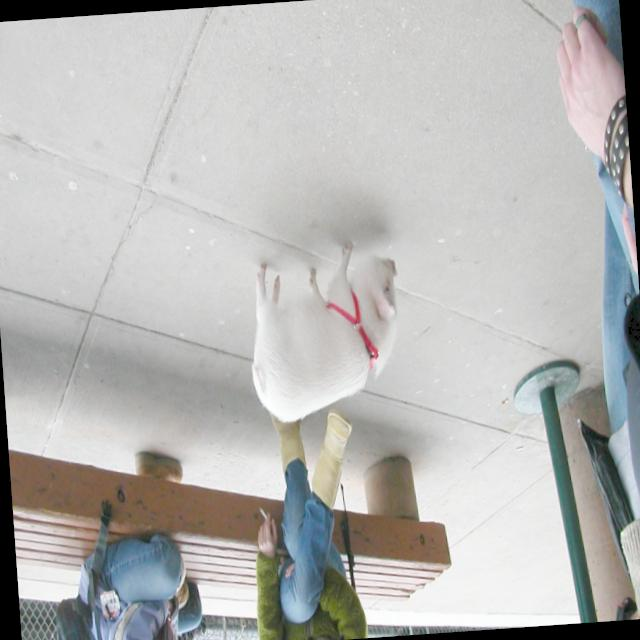pig: (251, 242, 397, 422)
